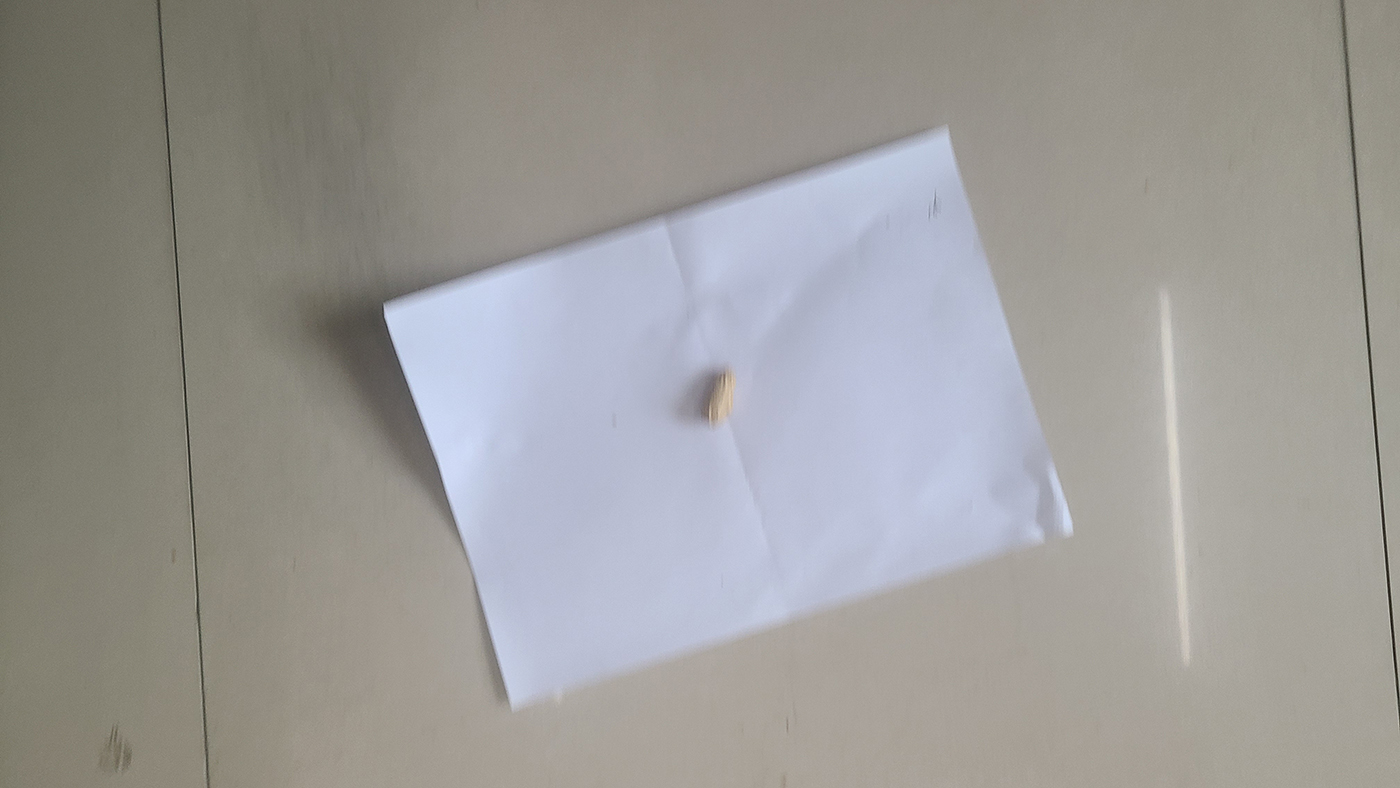h: (705, 369, 737, 424)
